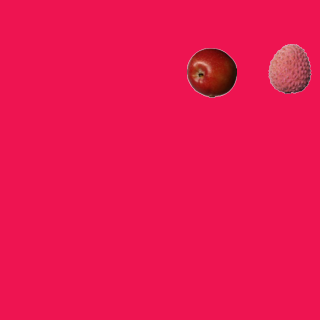Apple Braeburn: (186, 47, 236, 97)
Lychee: (264, 43, 314, 93)
